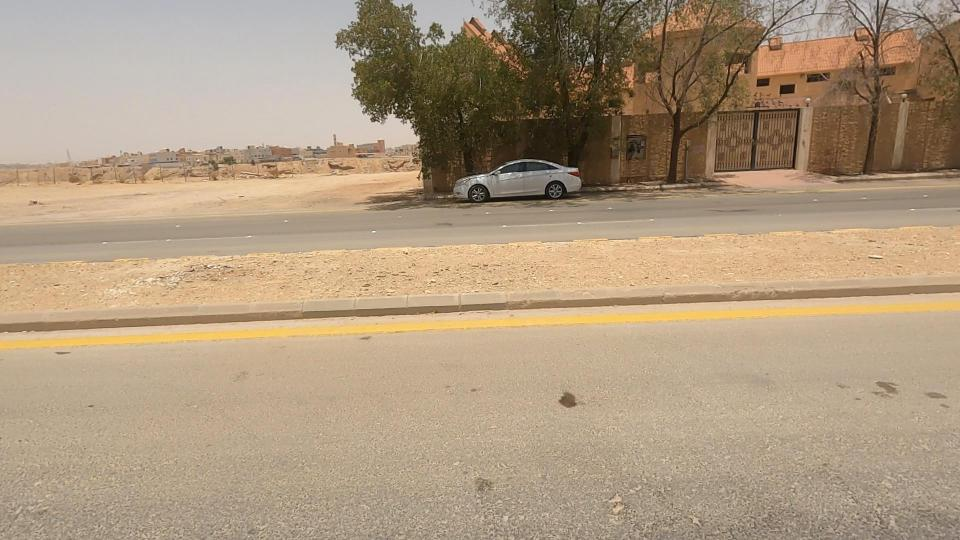CLUTTER_SIDEWALK: (0, 202, 451, 363), (271, 199, 876, 317)
